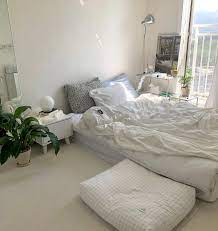Bed: (60, 69, 218, 204)
Lamp: (140, 11, 156, 75)
